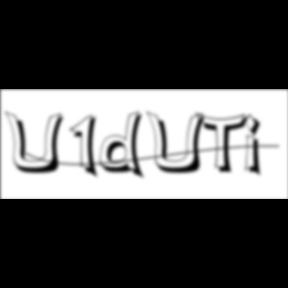1: (68, 114, 104, 182)
T: (196, 112, 254, 176)
U: (4, 110, 70, 176), (146, 110, 212, 176)
d: (100, 110, 150, 182)
i: (244, 112, 268, 180)
